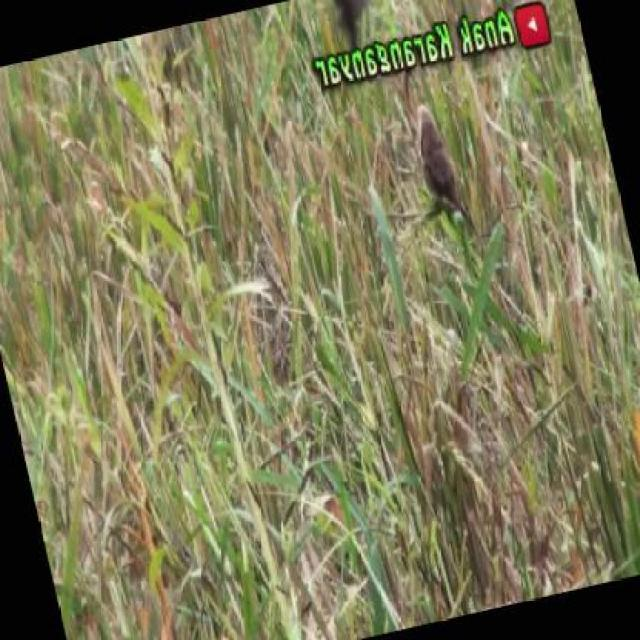Bird: (414, 99, 471, 221)
